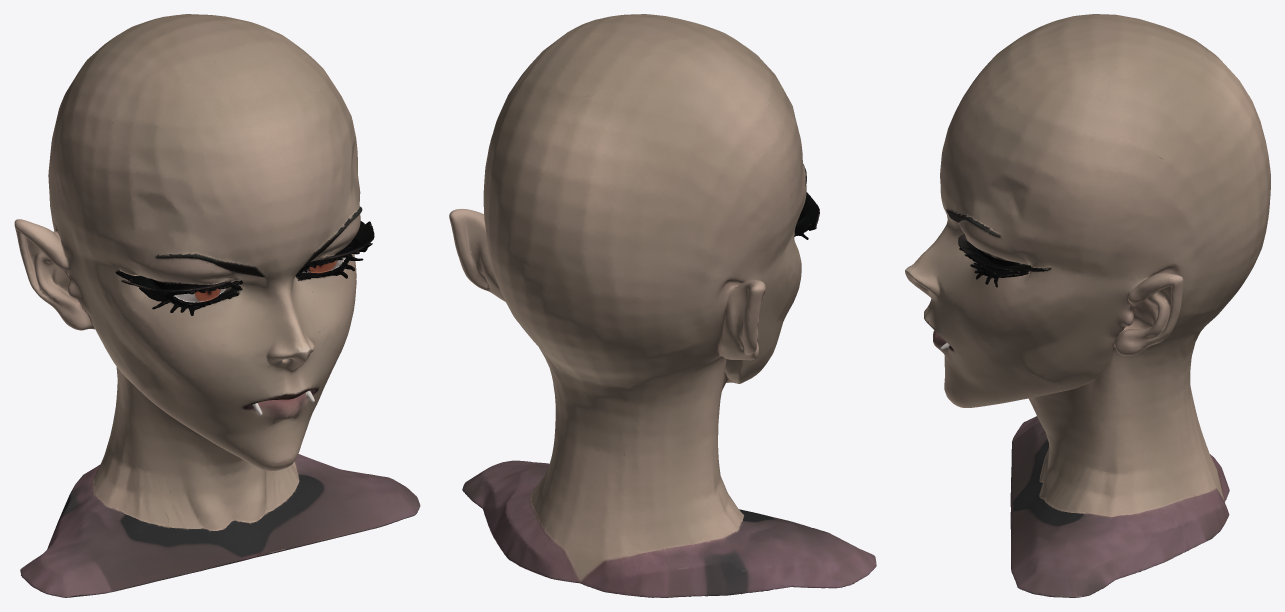
Rendered from head7_s11_pixal3d.glb.
3 views of the same model, side by side, from view 1: azimuth 30°, elevation 25°; view 2: azimuth 150°, elevation 25°; view 3: azimuth 270°, elevation 25° (orthographic). The views are drawn at different scales.
Size of the model in its own units: 0.7703 by 0.9513 by 0.6588.
1 material, 1 textured.
